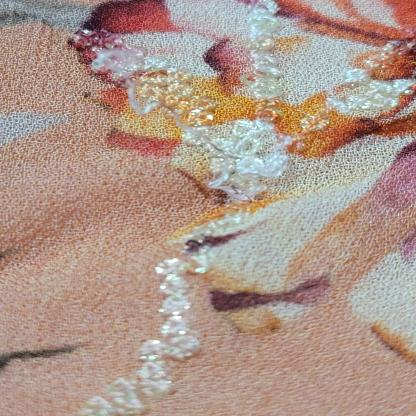spot: (79, 88, 116, 117)
